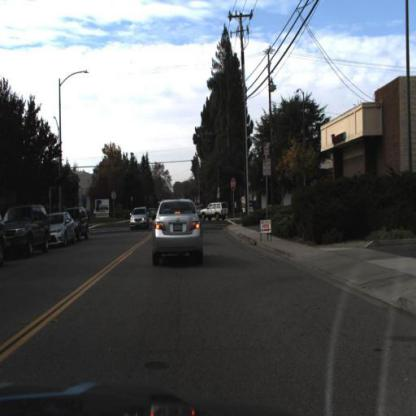car: (151, 199, 203, 270), (3, 204, 52, 259), (48, 211, 77, 249), (75, 206, 94, 243), (128, 205, 149, 234), (200, 202, 229, 223)
